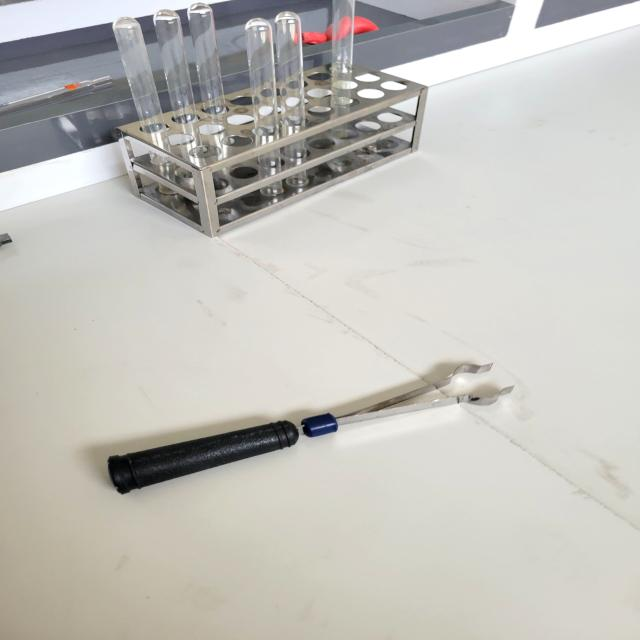TestTube_Holder: (65, 350, 534, 502)
